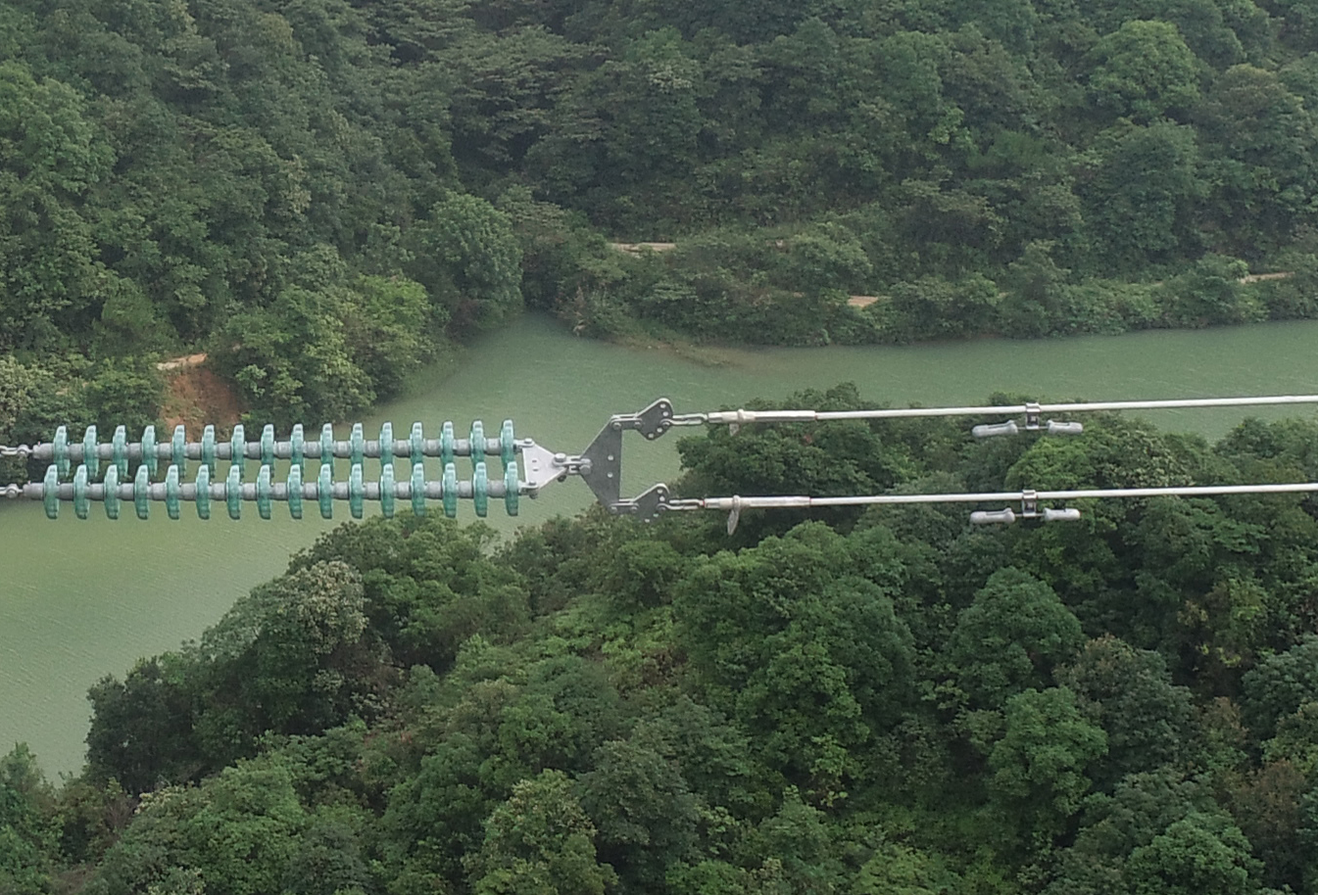damper: (965, 485, 1084, 529), (965, 400, 1088, 438)
